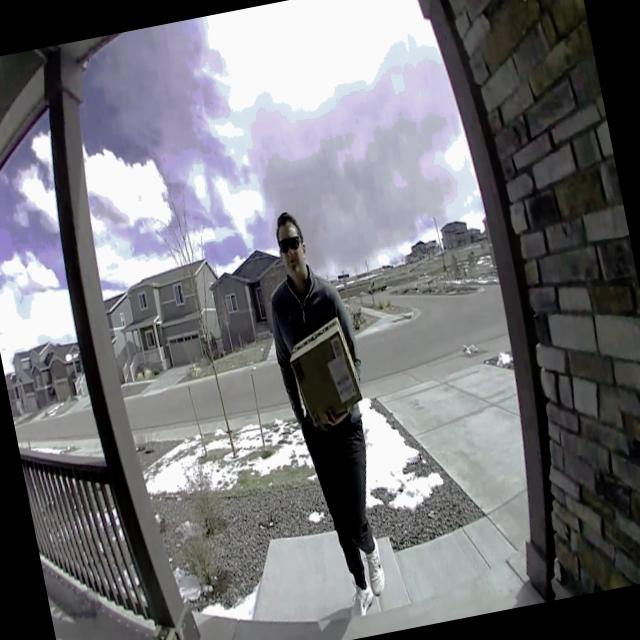Box: (282, 310, 369, 436), (150, 620, 191, 640)
